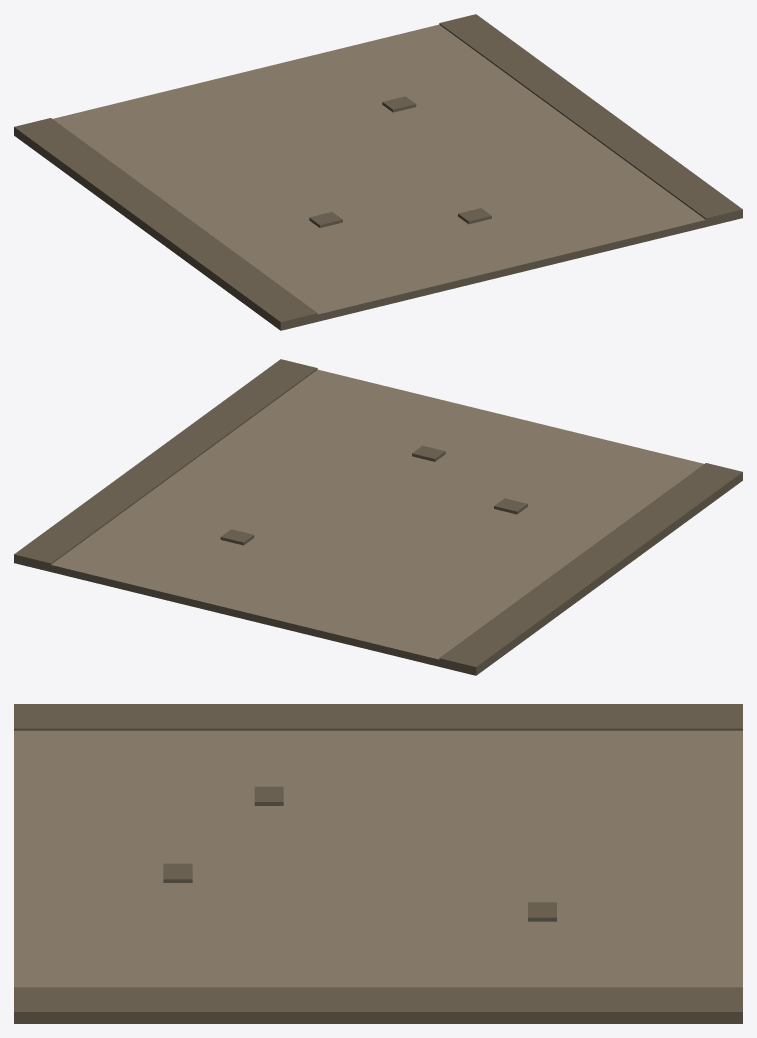
Rendered from road_straight.glb.
3 renders of one model, top to bottom at view 1: azimuth 30°, elevation 25°; view 2: azimuth 150°, elevation 25°; view 3: azimuth 270°, elevation 25°, orthographic. The views are drawn at different scales.
Parts seen in each view (by area): view 1: road_straight; view 2: road_straight; view 3: road_straight.
Part boxes in pixels (bbox=[...]): road_straight: bbox=[14, 14, 742, 330]; road_straight: bbox=[14, 359, 742, 675]; road_straight: bbox=[14, 704, 742, 1023].
Size of the model in its own units: 2 by 0.042 by 2.
